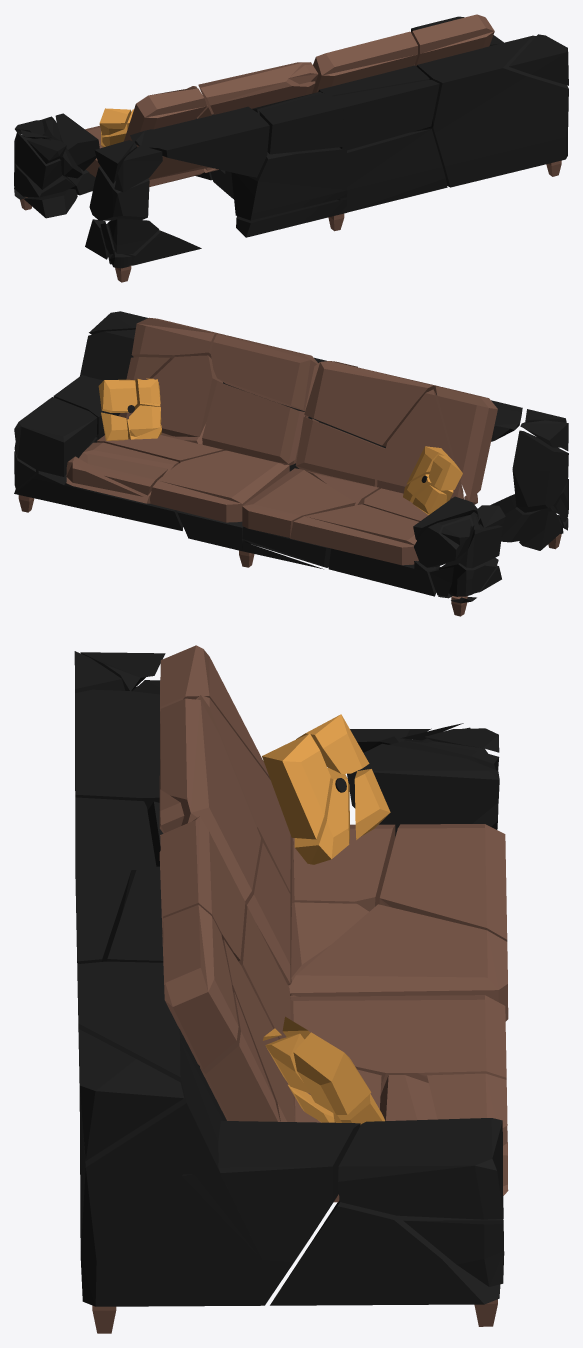
File: fullsofaORIGIN.fbx
3 renders of one model, top to bottom at view 1: azimuth 30°, elevation 25°; view 2: azimuth 150°, elevation 25°; view 3: azimuth 270°, elevation 25°, orthographic. The views are drawn at different scales.
Visible parts, largest first — view 1: group924622577_cell.150, group924622577_cell.073, group924622577_cell.081, group924622577_cell.077, group924622577_cell.172, group924622577_cell.080, group924622577_cell.144, group924622577_cell.129, group924622577_cell.121, group924622577_cell.134, group924622577_cell.070, group924622577_cell.148 (+26 smaller); view 2: group924622577_cell.129, group924622577_cell.142, group924622577_cell.146, group924622577_cell.123, group924622577_cell.144, group924622577_cell.085, group924622577_cell.134, group924622577_cell.126, group924622577_cell.153, group924622577_cell.127, group924622577_cell.136, group924622577_cell.150 (+38 smaller); view 3: group924622577_cell.150, group924622577_cell.085, group924622577_cell.126, group924622577_cell.142, group924622577_cell.084, group924622577_cell.123, group924622577_cell.129, group924622577_cell.073, group924622577_cell.121, group924622577_cell.239, group924622577_cell.148, group924622577_cell.144 (+27 smaller).
Part boxes in pixels (bbox=[...]): group924622577_cell.150: bbox=[417, 35, 568, 187]; group924622577_cell.073: bbox=[130, 106, 269, 177]; group924622577_cell.081: bbox=[337, 129, 447, 214]; group924622577_cell.077: bbox=[250, 149, 347, 220]; group924622577_cell.172: bbox=[329, 79, 439, 150]; group924622577_cell.080: bbox=[259, 93, 346, 154]; group924622577_cell.144: bbox=[312, 31, 417, 93]; group924622577_cell.129: bbox=[198, 62, 315, 114]; group924622577_cell.121: bbox=[412, 14, 494, 65]; group924622577_cell.134: bbox=[124, 88, 206, 146]; group924622577_cell.070: bbox=[89, 167, 149, 220]; group924622577_cell.148: bbox=[509, 34, 568, 85]; group924622577_cell.129: bbox=[304, 361, 438, 445]; group924622577_cell.142: bbox=[150, 450, 289, 522]; group924622577_cell.146: bbox=[202, 381, 305, 464]; group924622577_cell.123: bbox=[290, 504, 418, 565]; group924622577_cell.144: bbox=[211, 334, 318, 410]; group924622577_cell.085: bbox=[14, 397, 97, 476]; group924622577_cell.134: bbox=[435, 386, 497, 501]; group924622577_cell.126: bbox=[242, 468, 355, 537]; group924622577_cell.153: bbox=[118, 355, 212, 436]; group924622577_cell.127: bbox=[295, 417, 380, 486]; group924622577_cell.136: bbox=[377, 389, 462, 499]; group924622577_cell.150: bbox=[54, 329, 135, 438]; group924622577_cell.150: bbox=[77, 961, 359, 1306]; group924622577_cell.085: bbox=[338, 1118, 503, 1219]; group924622577_cell.126: bbox=[289, 904, 508, 1021]; group924622577_cell.142: bbox=[290, 995, 506, 1077]; group924622577_cell.084: bbox=[270, 1206, 484, 1305]; group924622577_cell.123: bbox=[380, 824, 507, 939]; group924622577_cell.129: bbox=[159, 698, 260, 900]; group924622577_cell.073: bbox=[75, 680, 160, 797]; group924622577_cell.121: bbox=[162, 905, 238, 1069]; group924622577_cell.239: bbox=[347, 743, 499, 836]; group924622577_cell.148: bbox=[78, 1029, 184, 1160]; group924622577_cell.144: bbox=[159, 816, 245, 959].
Bounding box in the file's own units: 36.79 × 12.01 × 15.08.
